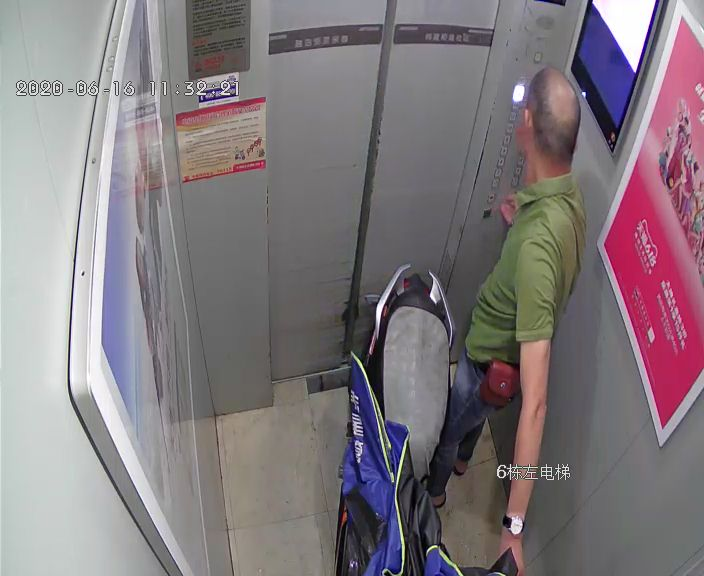Electric-bicycle: (335, 264, 504, 575)
